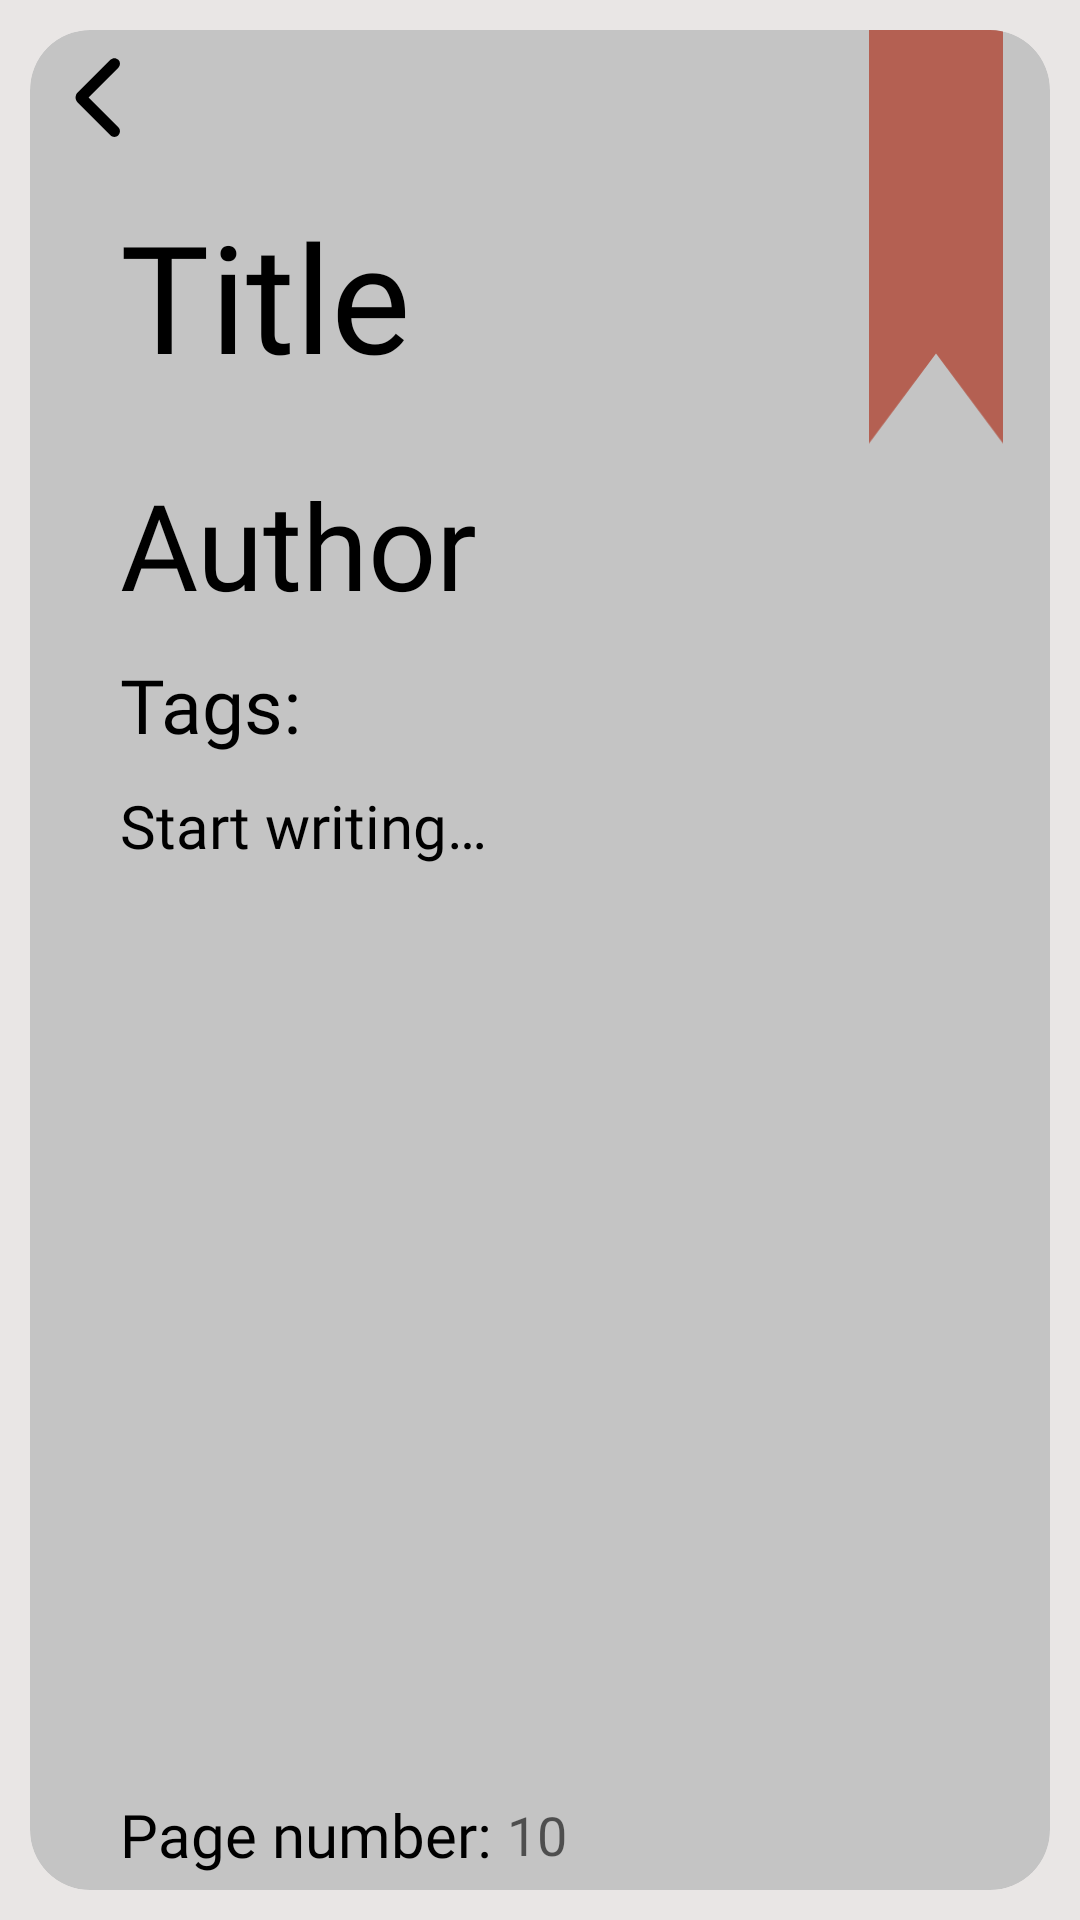

Screen size 1080 x 1920. Icon name, then its center in pixels as (x=x, y=y):
return: (x=97, y=97)
